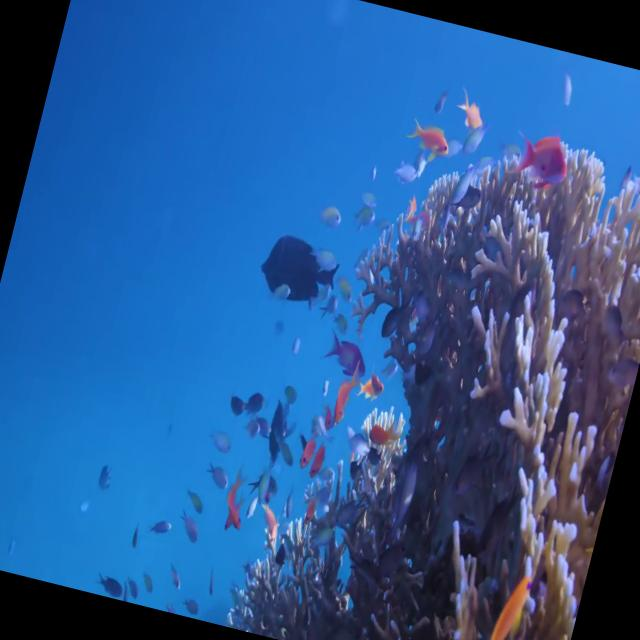fish: (253, 230, 344, 316), (514, 128, 572, 198), (322, 326, 374, 384), (400, 118, 454, 162)
